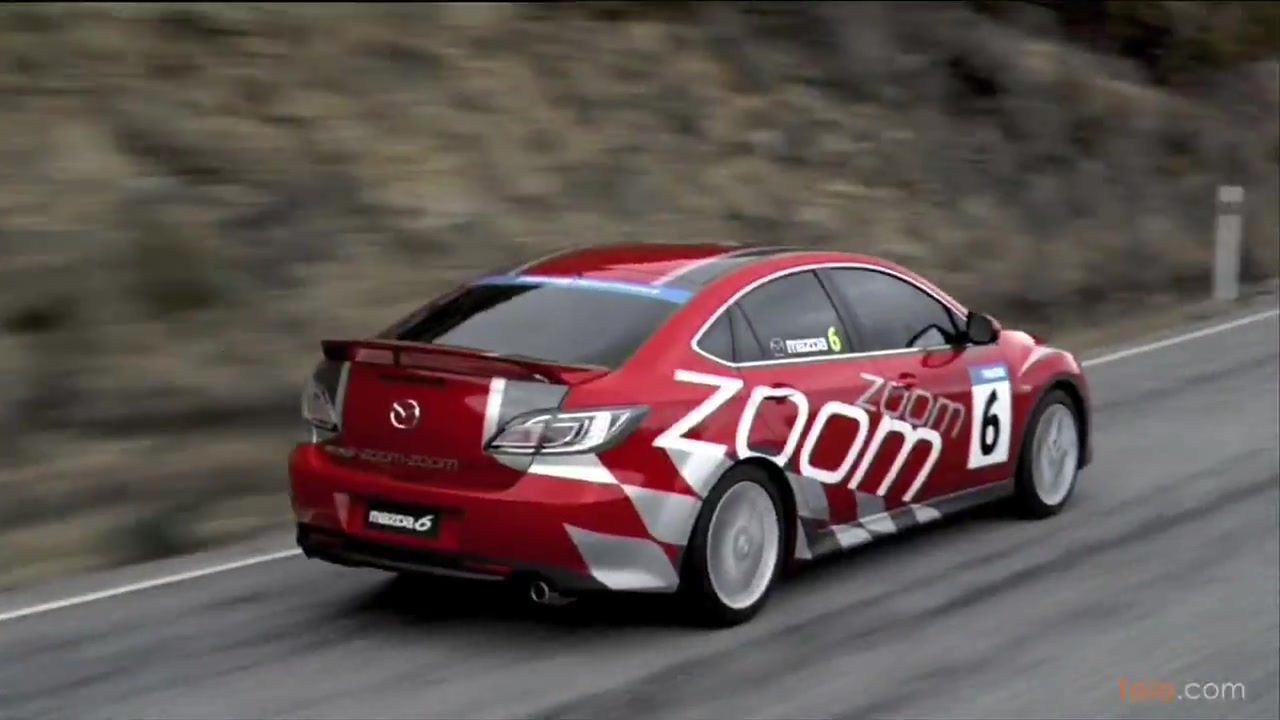car: (287, 240, 1098, 631)
